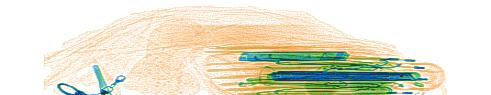knife: (236, 50, 350, 63)
